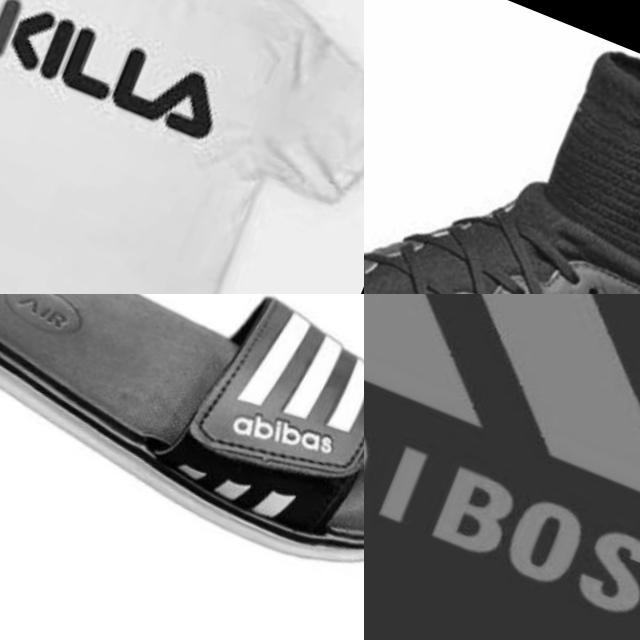ADIDAS_fake: (364, 294, 640, 640), (220, 390, 348, 478)
FILA_fake: (0, 0, 244, 163)
NIKE_original: (364, 166, 635, 294)
